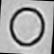no answer: (6, 4, 45, 48)
